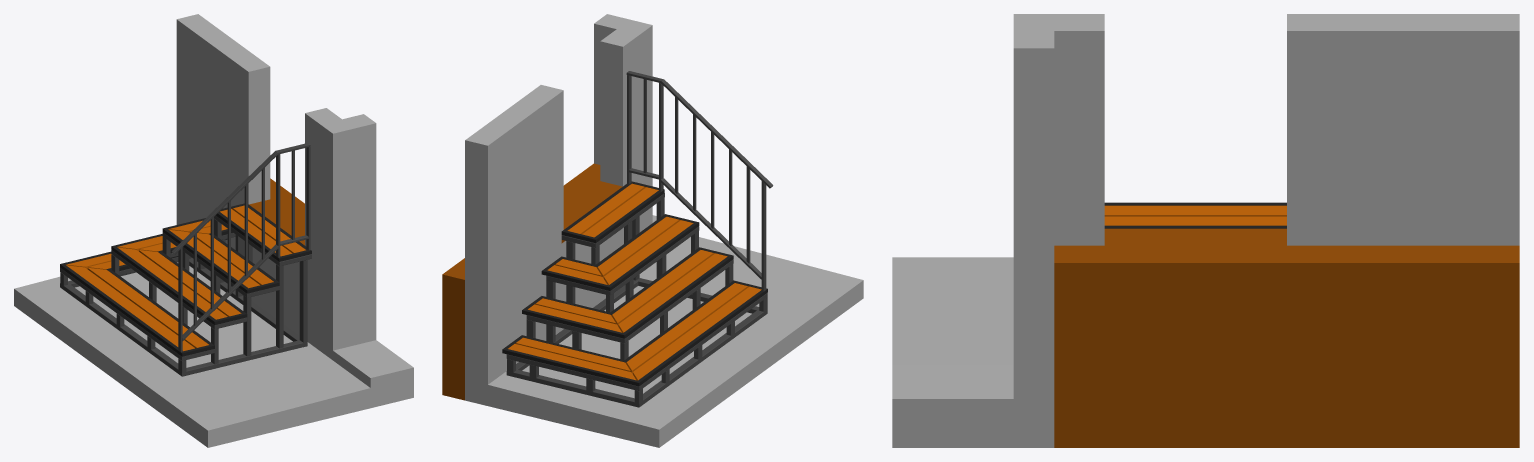
File: крыльцо.obj
The picture shows the model from 3 angles, left to right: view 1: azimuth 30°, elevation 25°; view 2: azimuth 150°, elevation 25°; view 3: azimuth 270°, elevation 25°; orthographic projection. The views are drawn at different scales.
Bounding box in the file's own units: 1.9 × 2.18 × 3.1.
